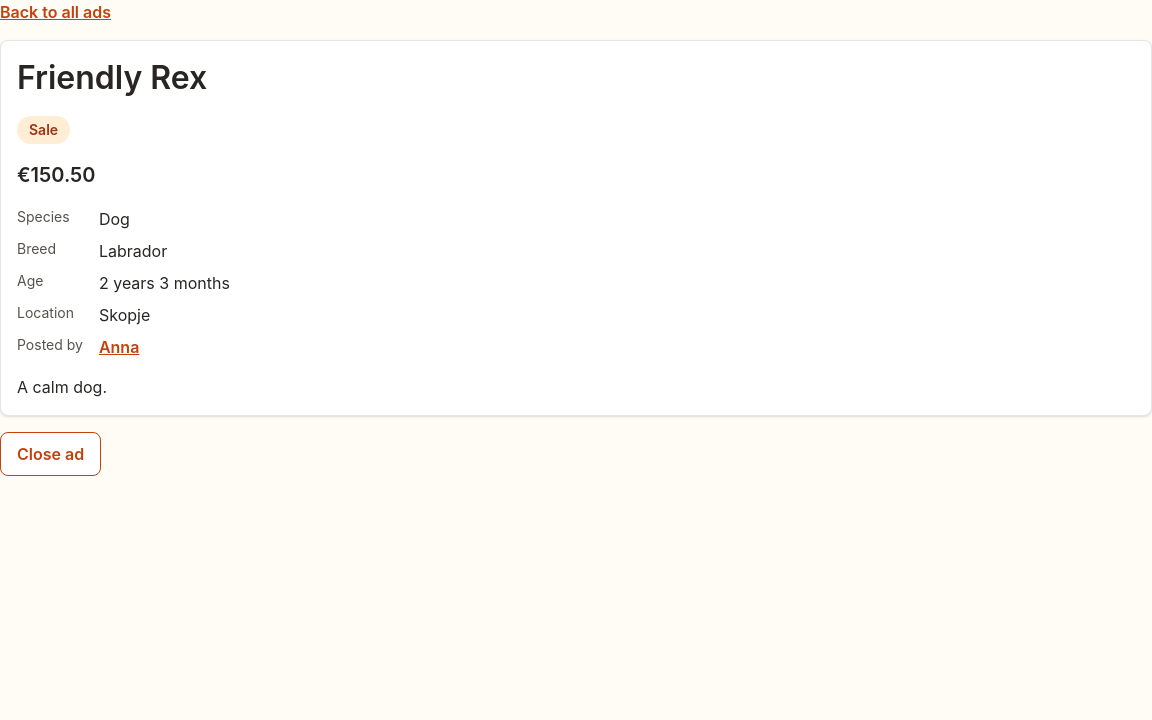
Test: PetAdDetailsPage close ad › opens the login page when the close answers 401
Click the button "Close ad" at x=51, y=454, box [0,432,101,476]
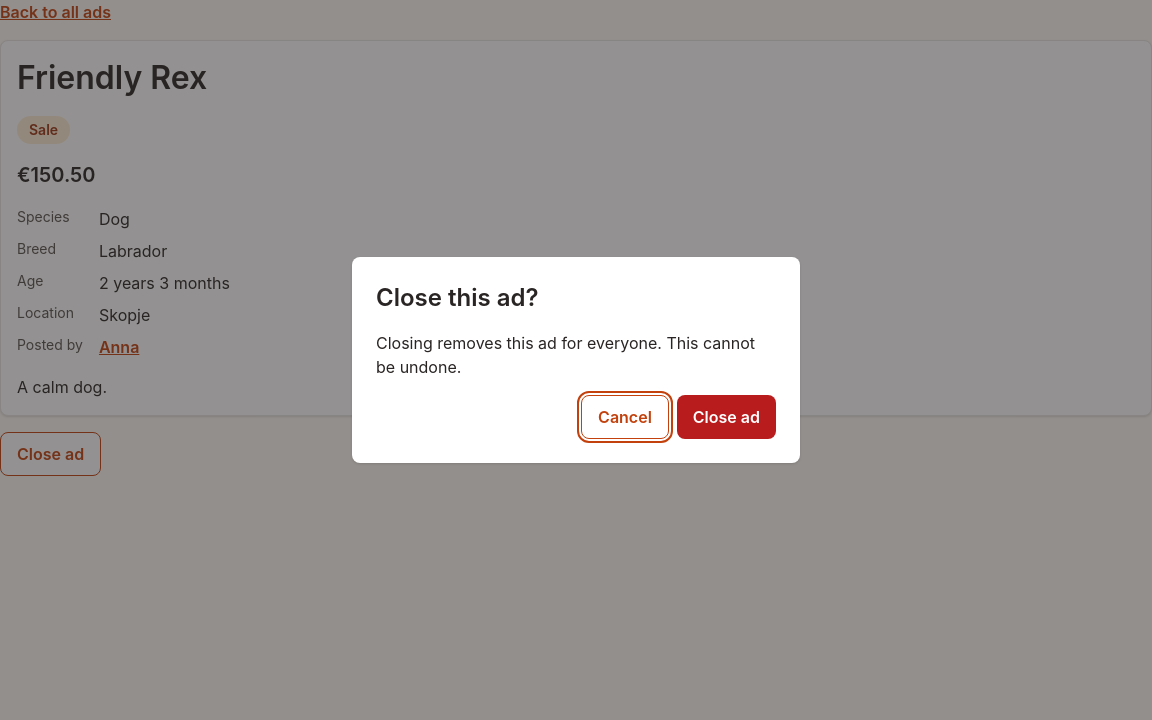
Click the button "Close ad" at x=726, y=417, box [677,395,776,439]
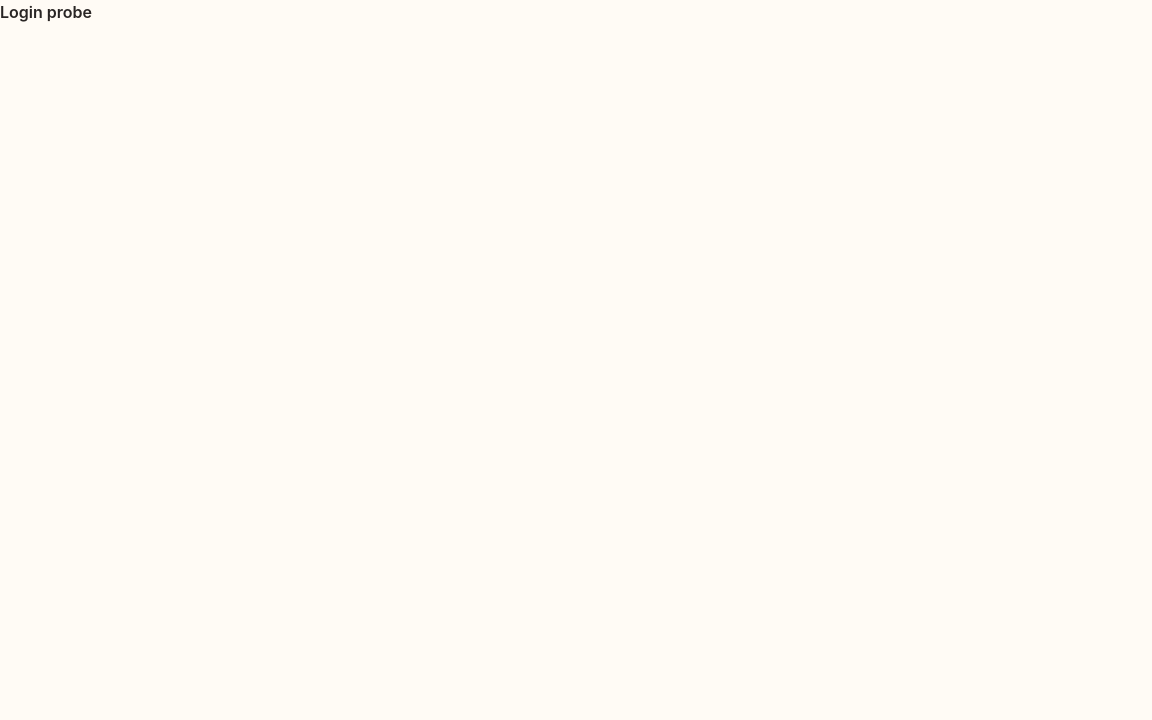
Now the heading "Login probe" is shown, box [0,2,92,22]
